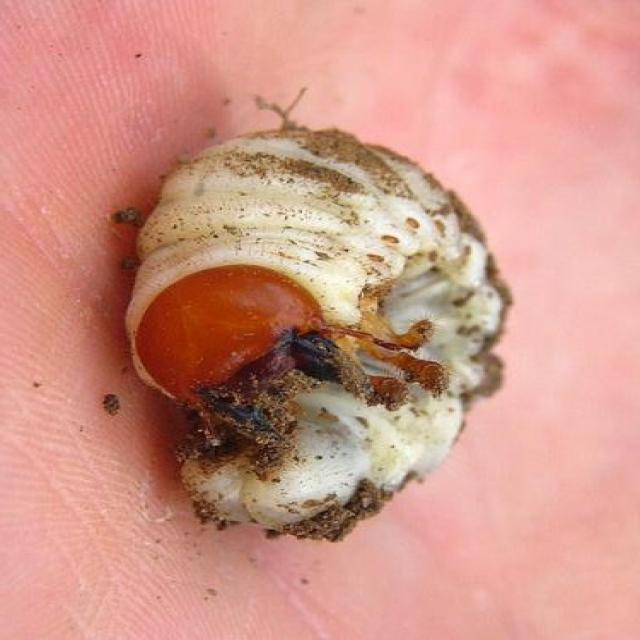grub: (115, 117, 523, 569)
